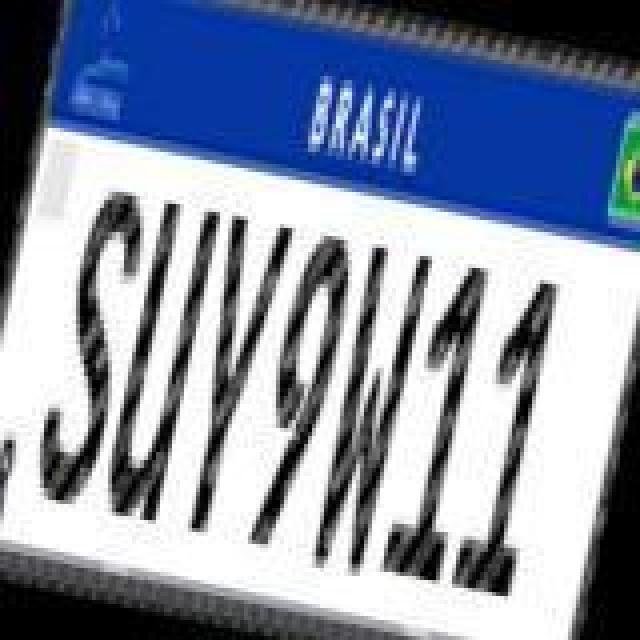1: (444, 270, 580, 610), (378, 246, 510, 586)
9: (234, 224, 366, 560)
S: (26, 180, 158, 516)
U: (94, 196, 226, 532)
W: (300, 236, 436, 580)
Y: (164, 210, 300, 542)
